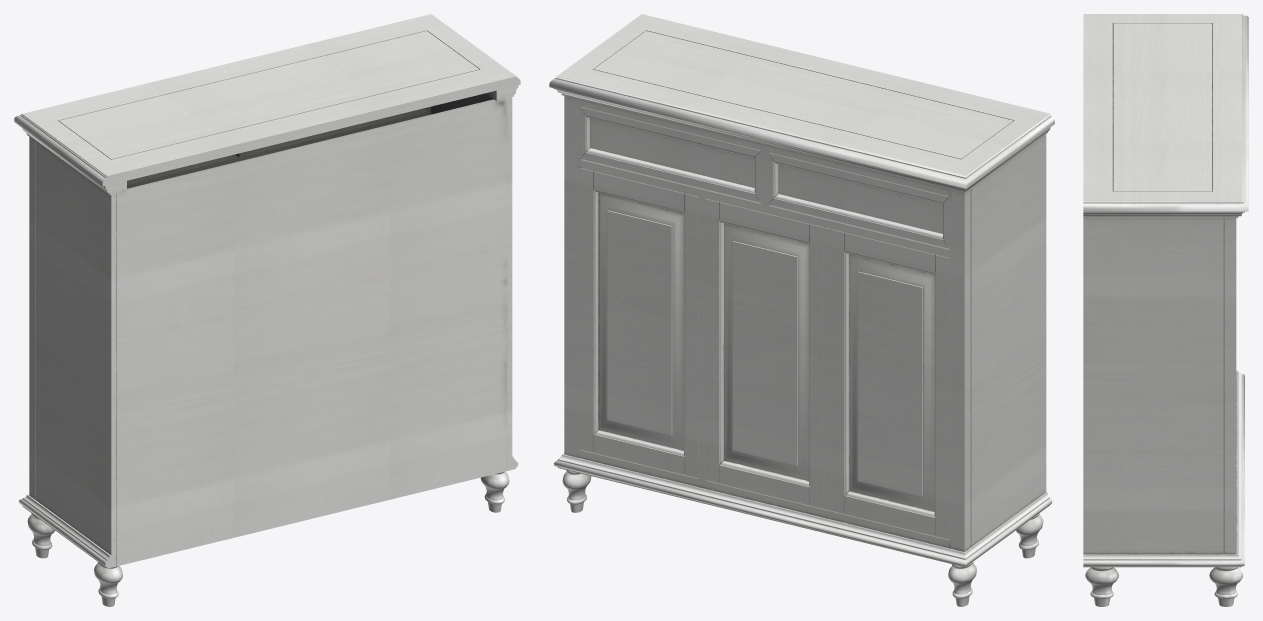
The picture shows the model from 3 angles, left to right: view 1: azimuth 30°, elevation 25°; view 2: azimuth 150°, elevation 25°; view 3: azimuth 270°, elevation 25°; orthographic projection. The views are drawn at different scales.
Parts seen in each view (by area): view 1: Sideboard_/_Side_Cabinet_/_Console_raw_model.014; view 2: Sideboard_/_Side_Cabinet_/_Console_raw_model.014; view 3: Sideboard_/_Side_Cabinet_/_Console_raw_model.014.
Part boxes in pixels (x1,y1,x2,y2): Sideboard_/_Side_Cabinet_/_Console_raw_model.014: (14, 14, 520, 606); Sideboard_/_Side_Cabinet_/_Console_raw_model.014: (549, 14, 1054, 606); Sideboard_/_Side_Cabinet_/_Console_raw_model.014: (1083, 14, 1248, 606).
Bounding box in the file's own units: 1.15 × 1.15 × 0.4213.
1 material, 1 textured.
